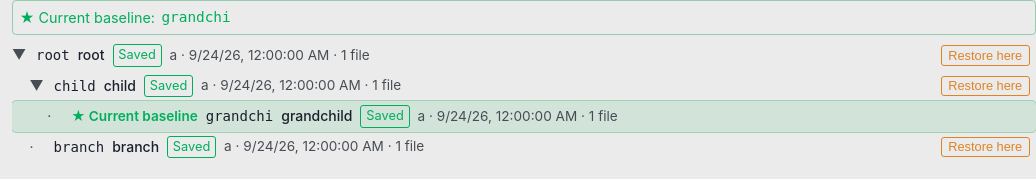
Test: SnapshotTree › collapses and re-expands a branch from its caret
The width and height of the screenshot is (1036, 179).
Click the 1st button with class "caret" at (20,56), box top-left (12, 44), bottom-right (28, 67)
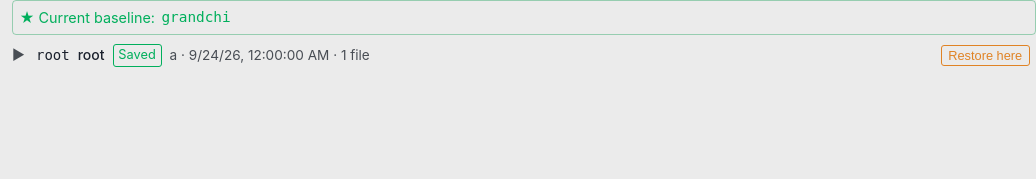
Check: the number of elements with class "node-row" is 1, box top-left (12, 40), bottom-right (1035, 71)
Click the button with class "caret" at (18,55), box top-left (12, 46), bottom-right (25, 63)
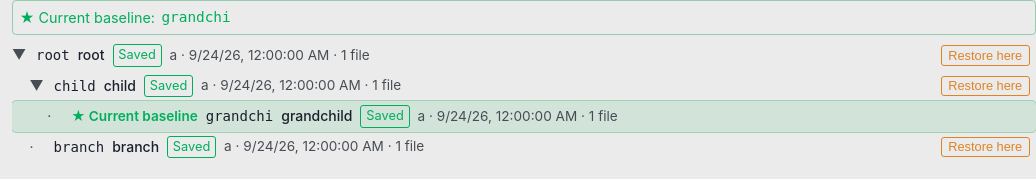
Check: the number of elements with class "node-row" is 4, box top-left (12, 40), bottom-right (1035, 71); top-left (12, 71), bottom-right (1035, 101); top-left (12, 101), bottom-right (1035, 132); top-left (12, 132), bottom-right (1035, 162)
